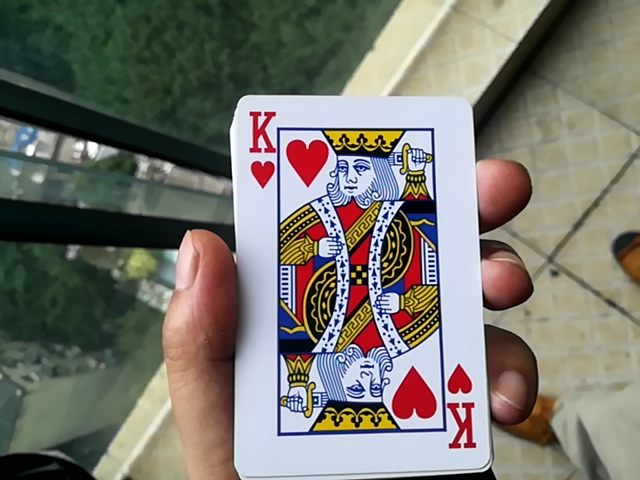hx k: (221, 86, 476, 478)
